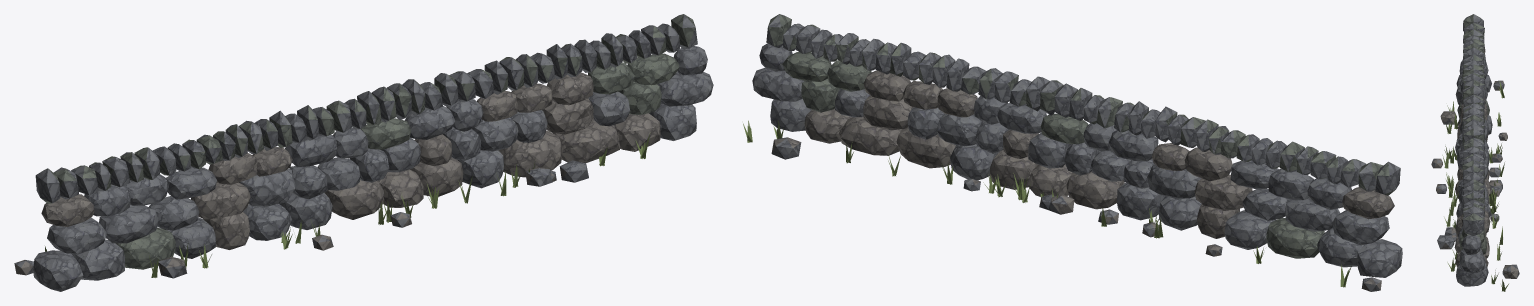
The model's file is highland_dry_stone_wall_module.glb.
The picture shows the model from 3 angles, left to right: view 1: azimuth 30°, elevation 25°; view 2: azimuth 150°, elevation 25°; view 3: azimuth 270°, elevation 25°; orthographic projection. The views are drawn at different scales.
Parts seen in each view (by area): view 1: DryStoneWall, DryStoneWallTurf; view 2: DryStoneWall, DryStoneWallTurf; view 3: DryStoneWall, DryStoneWallTurf.
Boxes of the visible parts, <box> form: DryStoneWall: <box>14,14,713,291</box>; DryStoneWallTurf: <box>45,132,650,277</box>; DryStoneWall: <box>752,14,1402,291</box>; DryStoneWallTurf: <box>743,120,1351,287</box>; DryStoneWall: <box>1431,14,1519,286</box>; DryStoneWallTurf: <box>1442,81,1508,291</box>.
Bounding box in the file's own units: 9.1 × 1.58 × 1.61.
Materials: 4 (3 with a texture image).
